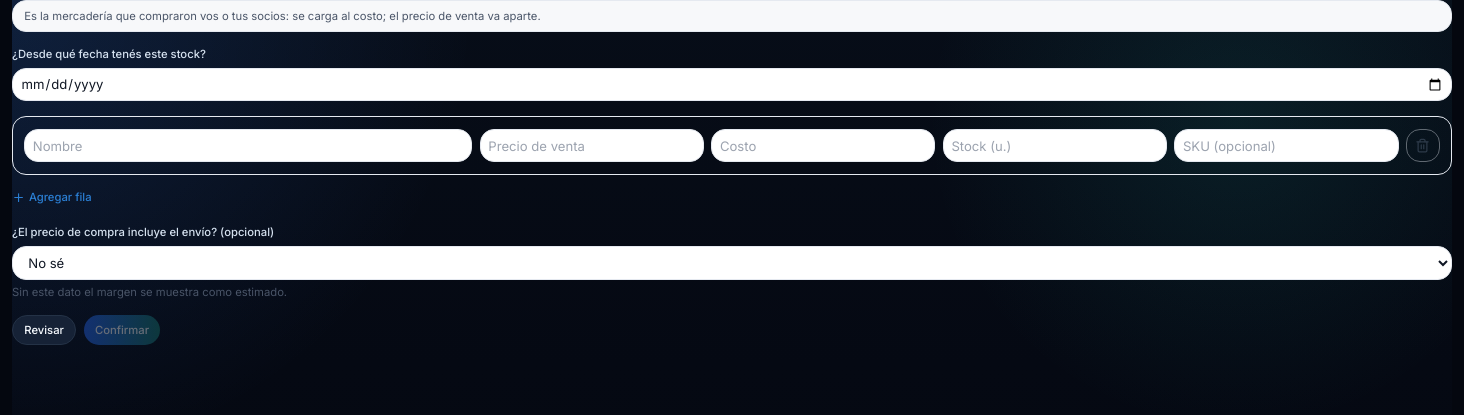
Test case: una fila sin costo no se revisa
Type "Vela" into the field named "Nombre, fila 1" at (248, 146), box [24, 129, 472, 162]
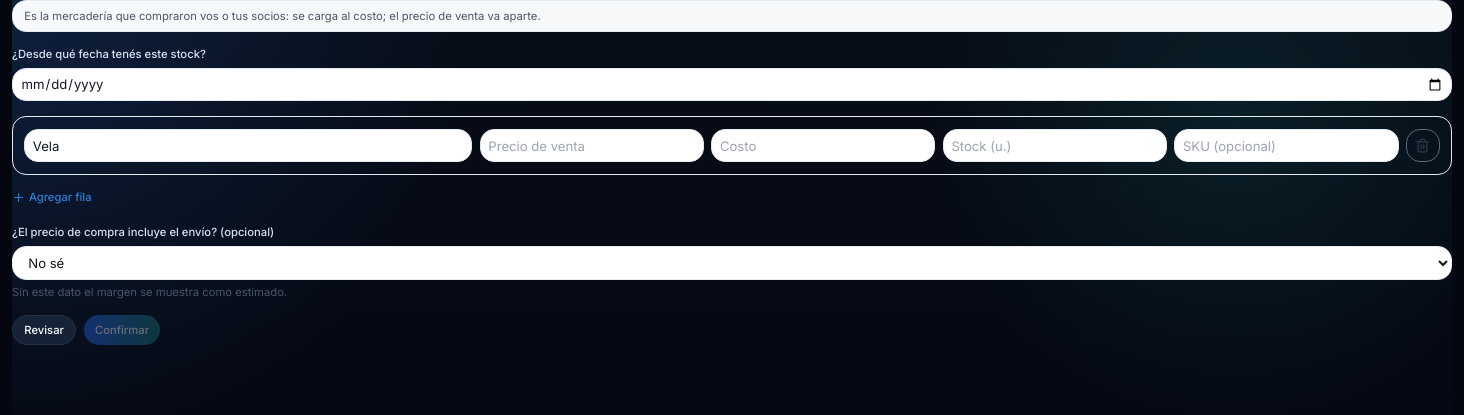
Type "3000" into the field named "Precio de venta, fila 1" at (592, 146), box [480, 129, 704, 162]
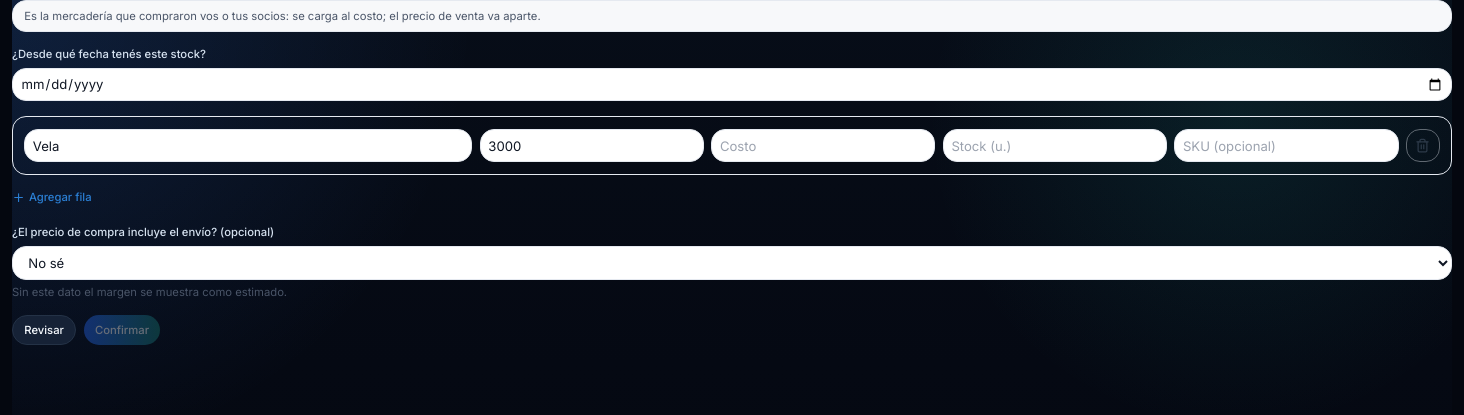
Type "10" into the field named "Stock, fila 1" at (1055, 146), box [943, 129, 1167, 162]
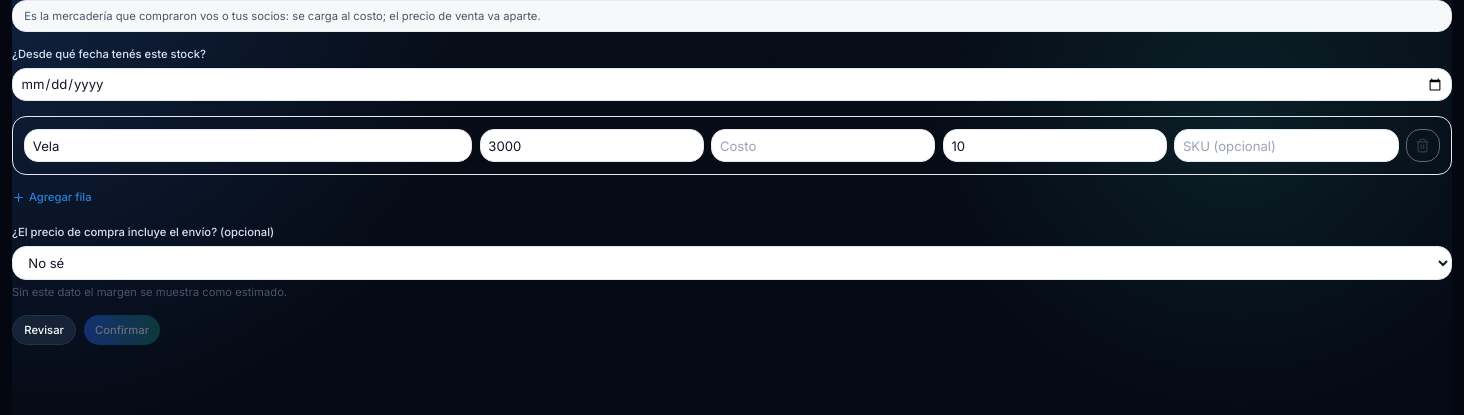
Click the button "Revisar" at (44, 330), box [12, 315, 76, 345]
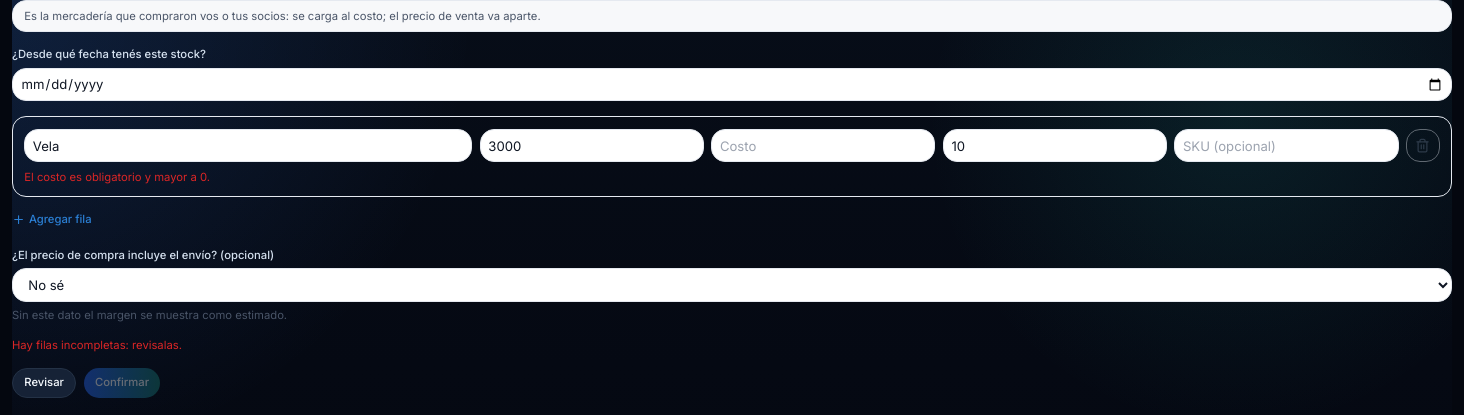
Expected: the list item "El costo es obligatorio y mayor a 0." is shown, [24, 170, 210, 184]
